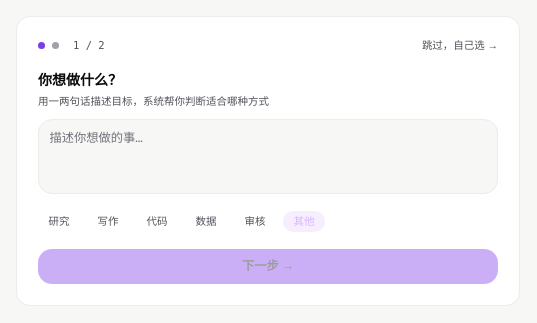
Test: GoalClarityWizard › Step 1 › advances to step 2 when next is clicked with non-empty goal
Type "我想写一篇文章" into the text box with test id "wizard-goal-input" at (268, 156), box [38,118,498,194]
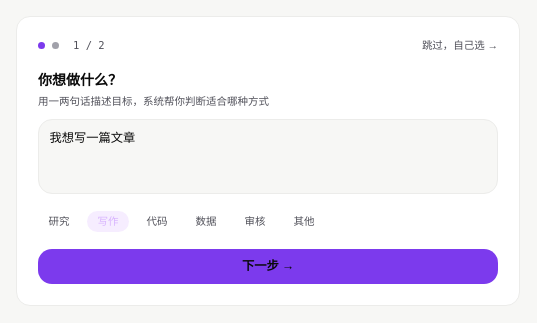
Click the button with test id "wizard-next-btn" at (268, 266), box [38,249,498,284]
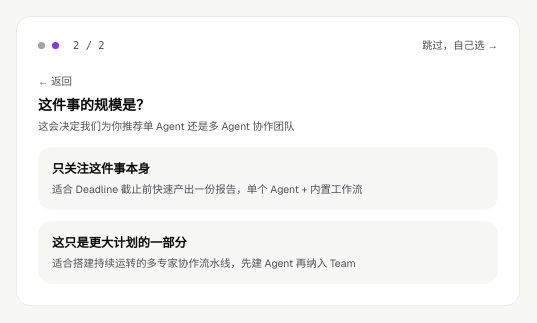
Now the element with test id "wizard-step-2" is shown, box [38,70,498,284]
